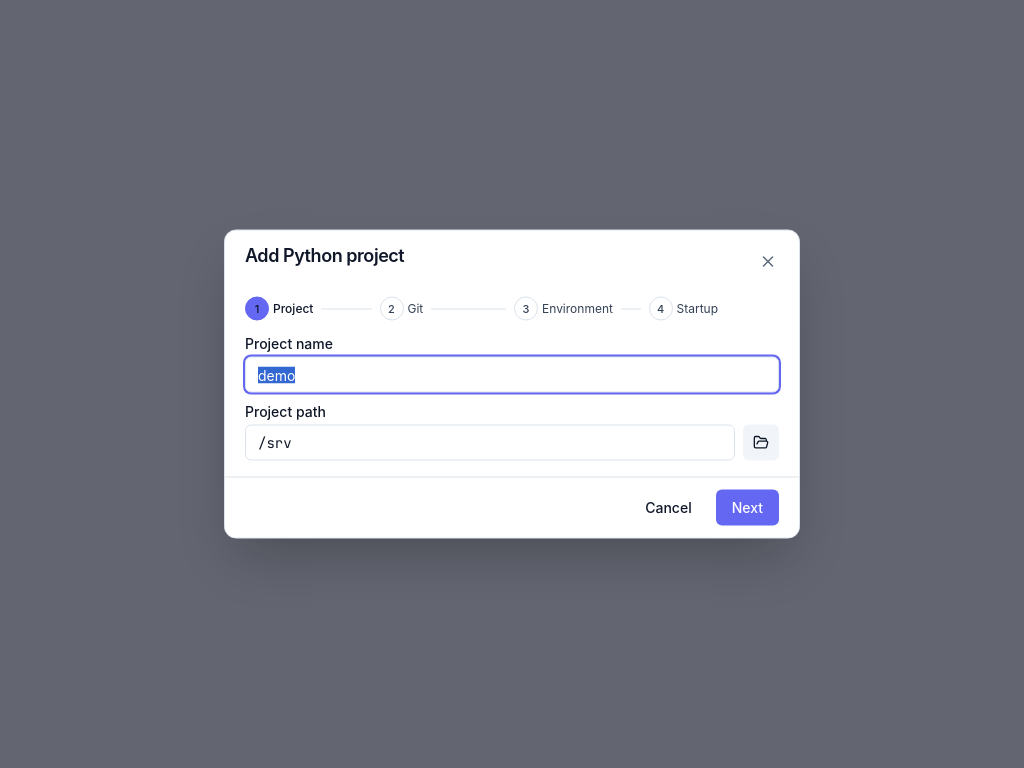
Scenario: selects a remote path without closing or clearing the new project wizard
This screenshot has width=1024, height=768.
Press the mouse on the button named "Browse folder" at (761, 442), box top-left (743, 424), bottom-right (779, 460)
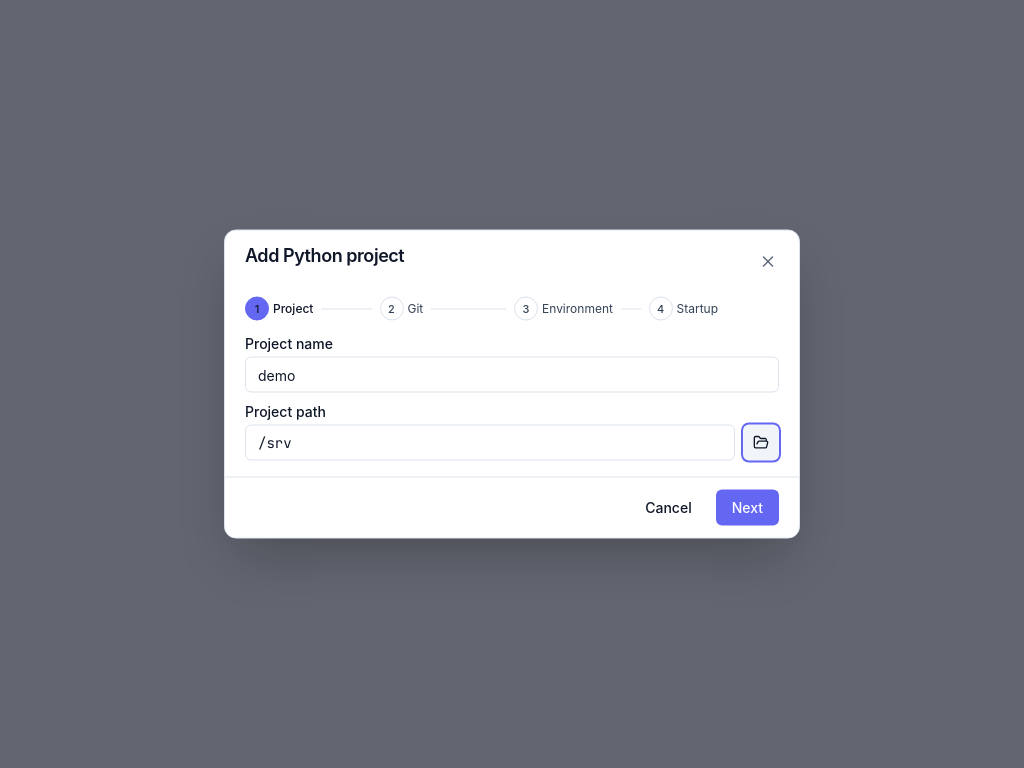
Click the button named "Browse folder". click: (761, 442)
box: top-left (743, 424), bottom-right (779, 460)
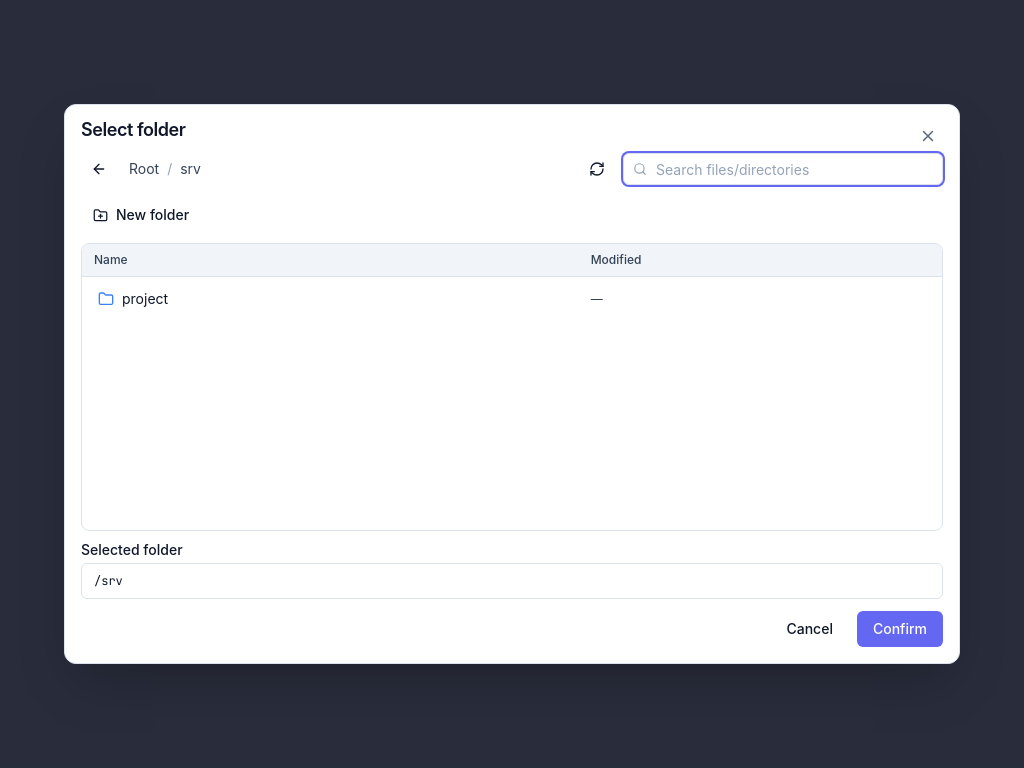
Press the mouse on the button "project" at (145, 298), box top-left (94, 283), bottom-right (567, 315)
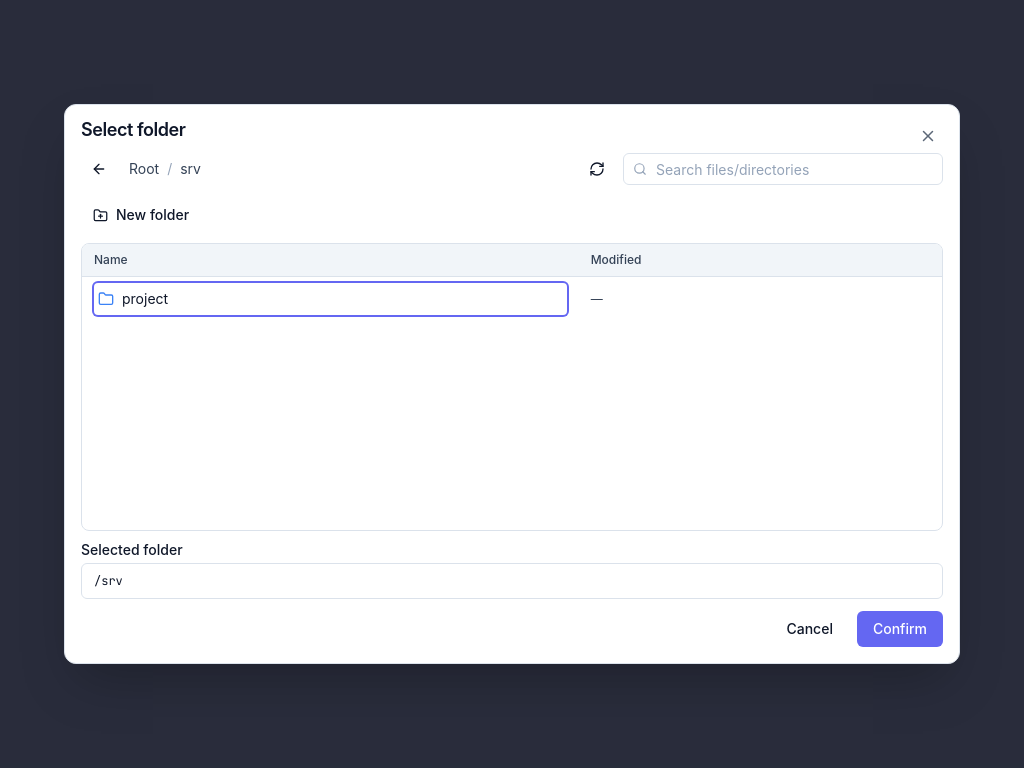
Click the button "project". click: (145, 298)
box: top-left (94, 283), bottom-right (567, 315)
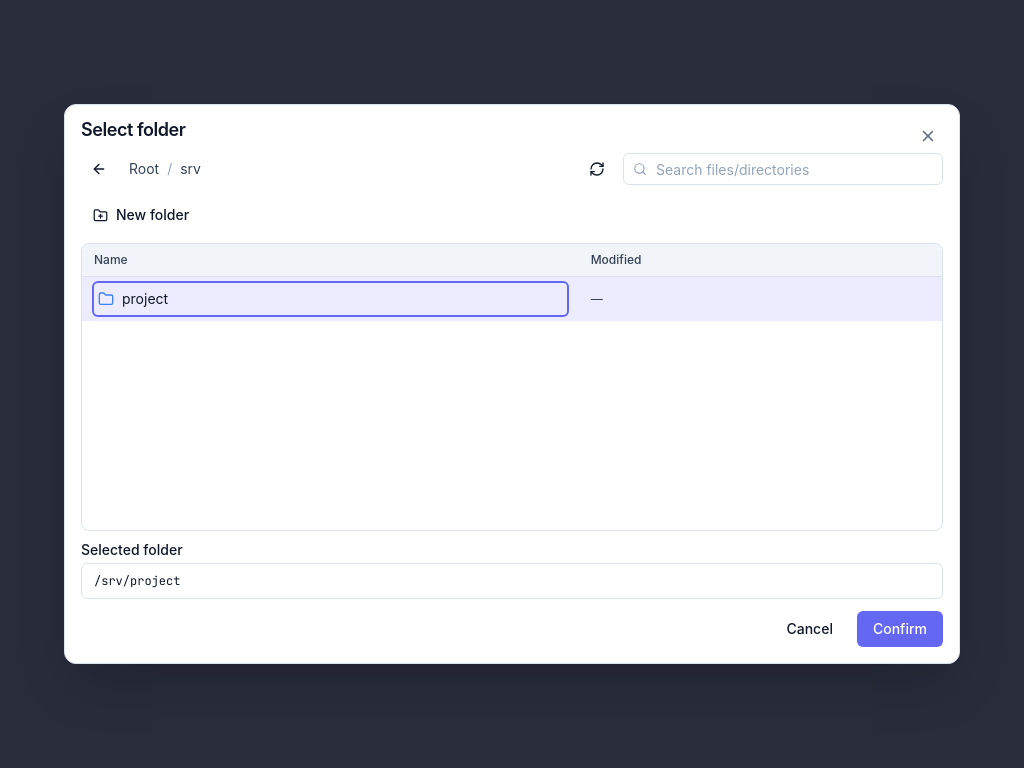
Press the mouse on the button "Confirm" at (900, 629), box top-left (857, 611), bottom-right (943, 647)
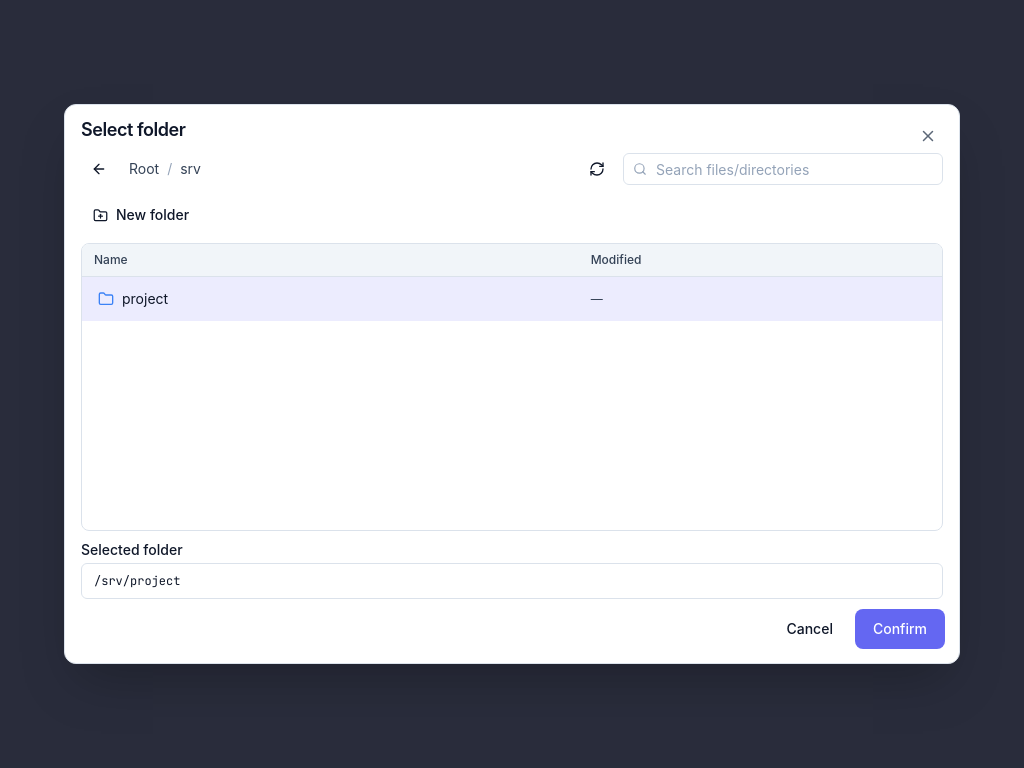
Click the button "Confirm". click: (900, 629)
box: top-left (857, 611), bottom-right (943, 647)
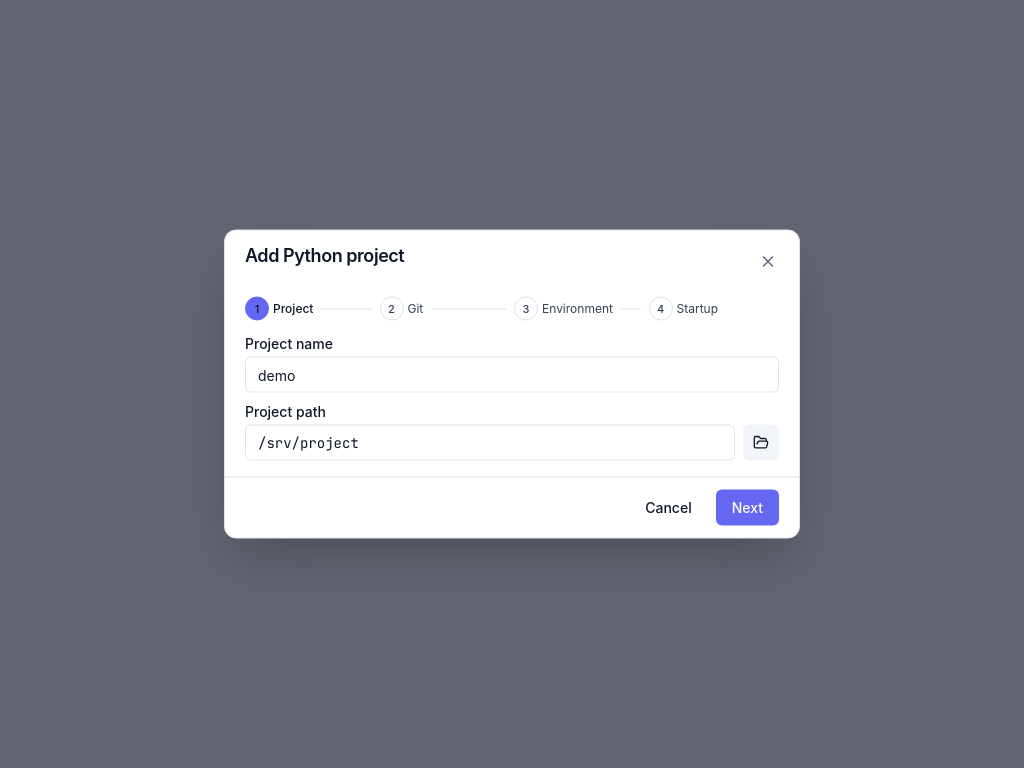
Now the number of dialogs is 1, box top-left (224, 230), bottom-right (800, 538)
